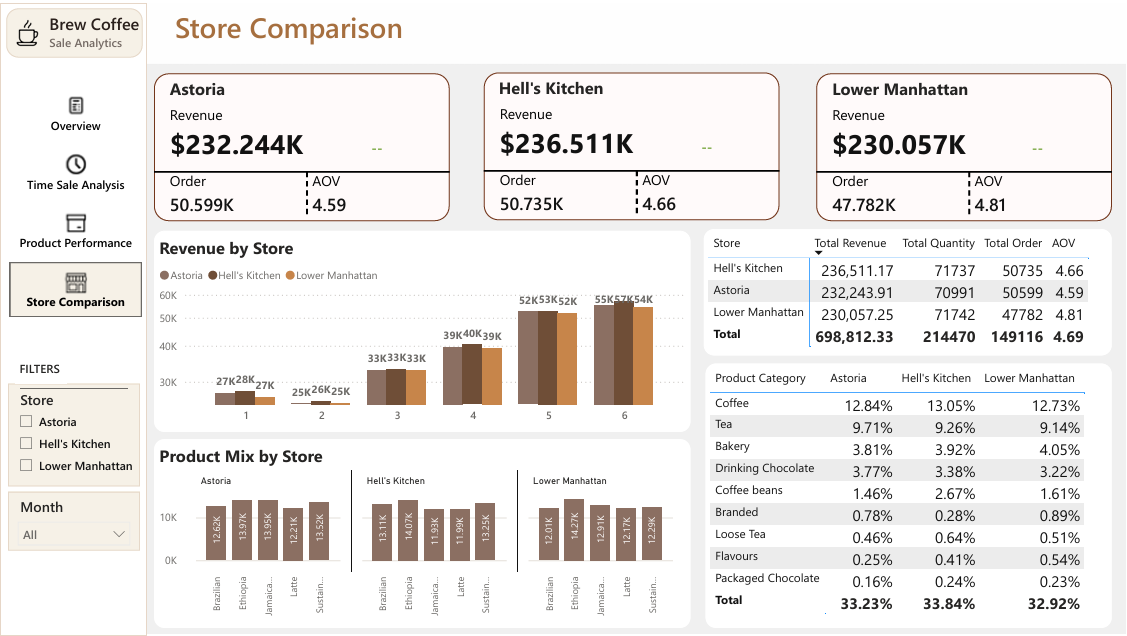

The dashboard page shown, as its layout file describes it:
{"tool":"powerbi","page":{"name":"Store Comparison","canvas":[1280,720],"ordinal":3},"visuals":[{"type":"shape","box":[6.5,5.8,155,55.8],"z":0,"group":"g1"},{"type":"shape","box":[175,80,336,168],"z":0},{"type":"textbox","box":[50.6,5.8,116.7,58.7],"z":1000,"group":"g1"},{"type":"shape","box":[550,79,336,168],"z":1000},{"type":"image","box":[5.7,17.3,49,32.7],"z":2000,"group":"g1"},{"type":"shape","box":[928,80,336,168],"z":2000},{"type":"textbox","box":[188.2,79.8,287.5,48.1],"z":3000},{"type":"textbox","box":[562.5,79,295.9,40],"z":4000},{"type":"textbox","box":[940.9,80,287.7,40],"z":5000},{"type":"cardVisual","fields":{"Data":["Measure (2).Ord_Astoria","Measure (2).AST_AOV"]},"box":[183,192,328,48],"z":6000},{"type":"cardVisual","fields":{"Data":["Measure (2).Ord_HellsKitchen","Measure (2).HK_AOV"]},"box":[558,191,328,48],"z":7000},{"type":"cardVisual","fields":{"Data":["Measure (2).Ord_LowerManhattan","Measure (2).LM_AOV"]},"box":[936,192,328,48],"z":8000},{"type":"shape","box":[175,184,336,16],"z":9000},{"type":"shape","box":[550,183,336,16],"z":10000},{"type":"shape","box":[928,184,336,16],"z":11000},{"type":"cardVisual","fields":{"Data":["Measure (2).Rev_Astoria"]},"box":[183,120,216,56],"z":12000},{"type":"cardVisual","fields":{"Data":["Measure (2).Rev_HellsKitchen"]},"box":[558,119,200,56],"z":13000},{"type":"cardVisual","fields":{"Data":["Measure (2).Rev_LowerManhattan"]},"box":[936,120,176,56],"z":14000},{"type":"cardVisual","fields":{"Data":["Measure (2).AST_MoM_Growth_KPI"]},"box":[347,141.1,163.3,43.3],"z":15000},{"type":"cardVisual","fields":{"Data":["Measure (2).HK_MoM_Growth_KPI"]},"box":[722,140.1,163.3,43.3],"z":16000},{"type":"cardVisual","fields":{"Data":["Measure (2).LM_MoM_Growth_KPI"]},"box":[1095.6,141.1,167.8,43.3],"z":17000},{"type":"clusteredColumnChart","title":"Revenue by Store","fields":{"Category":["dim_date.month"],"Series":["dim_store.store_location"],"Y":["Measure (2).Total Revenue"]},"box":[175,259,610,229],"z":18000},{"type":"pivotTable","fields":{"Rows":["dim_store.store_location"],"Values":["Measure (2).Total Revenue","Measure (2).Total Quantity","Measure (2).Total Order","Measure (2).AOV"]},"box":[800.1,256.8,463.5,144.3],"z":19000},{"type":"clusteredColumnChart","title":"Product Mix by Store","fields":{"Rows":["dim_store.store_location"],"Category":["dim_product.product_detail"],"Y":["Measure (2).Total Revenue"]},"box":[175,496,610,215],"z":20000},{"type":"pivotTable","fields":{"Values":["Measure (2).Total Revenue"],"Columns":["dim_store.store_location"],"Rows":["dim_product.product_category"]},"box":[802,409.7,461.6,301],"z":21000},{"type":"shape","box":[0,0,167.3,720.3],"z":22000},{"type":"actionButton","box":[10.6,94.2,150,62],"z":23000},{"type":"actionButton","box":[10.6,161.1,150,62],"z":24000},{"type":"actionButton","box":[10.6,227.9,150,62.5],"z":25000},{"type":"actionButton","box":[10.6,295.2,150,62],"z":26000},{"type":"group","id":"g1","title":"Group 1","box":[5.7,5.8,161.6,58.7],"z":27000},{"type":"slicer","title":"Category","fields":{"Values":["dim_store.store_location"]},"box":[9,432.9,150,117.3],"z":28000},{"type":"slicer","title":"Month","fields":{"Values":["dim_date.month"]},"box":[9,556,150,67.3],"z":29000},{"type":"textbox","box":[17,402,58,31],"z":30000},{"type":"textbox","box":[194,0,316,62],"z":31000}]}

Visuals, with their boxes on the page's 1280x720 design canvas (x1, y1, x2, y2). These are canvas units, not pixel positions in the 1127x636 screenshot, which may show the page scaled, cropped or inside an application window:
shape: 6, 6, 162, 62
shape: 175, 80, 511, 248
textbox: 51, 6, 167, 64
shape: 550, 79, 886, 247
image: 6, 17, 55, 50
shape: 928, 80, 1264, 248
textbox: 188, 80, 476, 128
textbox: 562, 79, 858, 119
textbox: 941, 80, 1229, 120
cardVisual - Measure (2).Ord_Astoria x Measure (2).AST_AOV: 183, 192, 511, 240
cardVisual - Measure (2).Ord_HellsKitchen x Measure (2).HK_AOV: 558, 191, 886, 239
cardVisual - Measure (2).Ord_LowerManhattan x Measure (2).LM_AOV: 936, 192, 1264, 240
shape: 175, 184, 511, 200
shape: 550, 183, 886, 199
shape: 928, 184, 1264, 200
cardVisual - Measure (2).Rev_Astoria: 183, 120, 399, 176
cardVisual - Measure (2).Rev_HellsKitchen: 558, 119, 758, 175
cardVisual - Measure (2).Rev_LowerManhattan: 936, 120, 1112, 176
cardVisual - Measure (2).AST_MoM_Growth_KPI: 347, 141, 510, 184
cardVisual - Measure (2).HK_MoM_Growth_KPI: 722, 140, 885, 183
cardVisual - Measure (2).LM_MoM_Growth_KPI: 1096, 141, 1263, 184
"Revenue by Store" clusteredColumnChart: 175, 259, 785, 488
pivotTable - dim_store.store_location x Measure (2).Total Revenue: 800, 257, 1264, 401
"Product Mix by Store" clusteredColumnChart: 175, 496, 785, 711
pivotTable - Measure (2).Total Revenue x dim_store.store_location: 802, 410, 1264, 711
shape: 0, 0, 167, 720
actionButton: 11, 94, 161, 156
actionButton: 11, 161, 161, 223
actionButton: 11, 228, 161, 290
actionButton: 11, 295, 161, 357
"Group 1" group: 6, 6, 167, 64
"Category" slicer: 9, 433, 159, 550
"Month" slicer: 9, 556, 159, 623
textbox: 17, 402, 75, 433
textbox: 194, 0, 510, 62
